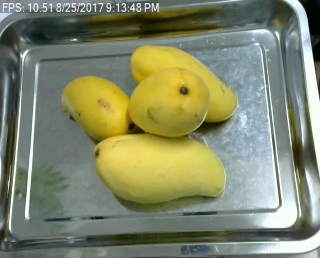Mango: (95, 132, 228, 203), (129, 43, 240, 123), (127, 63, 211, 141), (59, 70, 134, 139)
